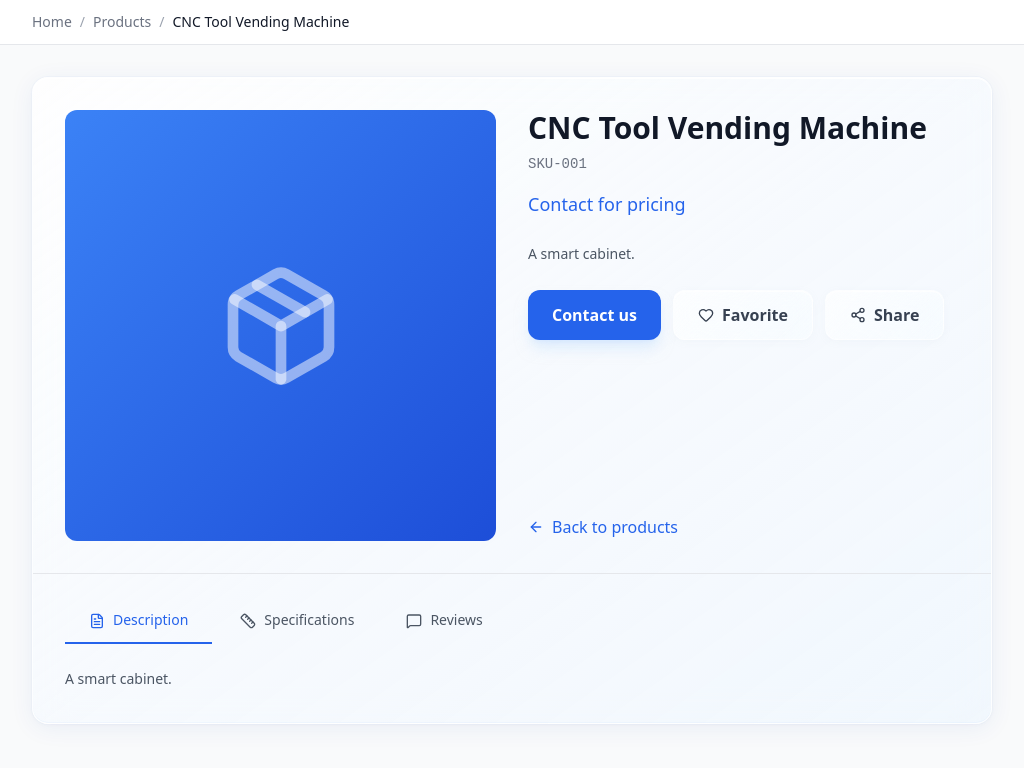
P2 ProductDetailClient — specs render as a table › array shape [{param,value}] -> <table> with param/value cells
// Open the Specifications tab.
Click the button "Specifications".
click(297, 621)  # box [216,598,378,644]
(page scrolled)
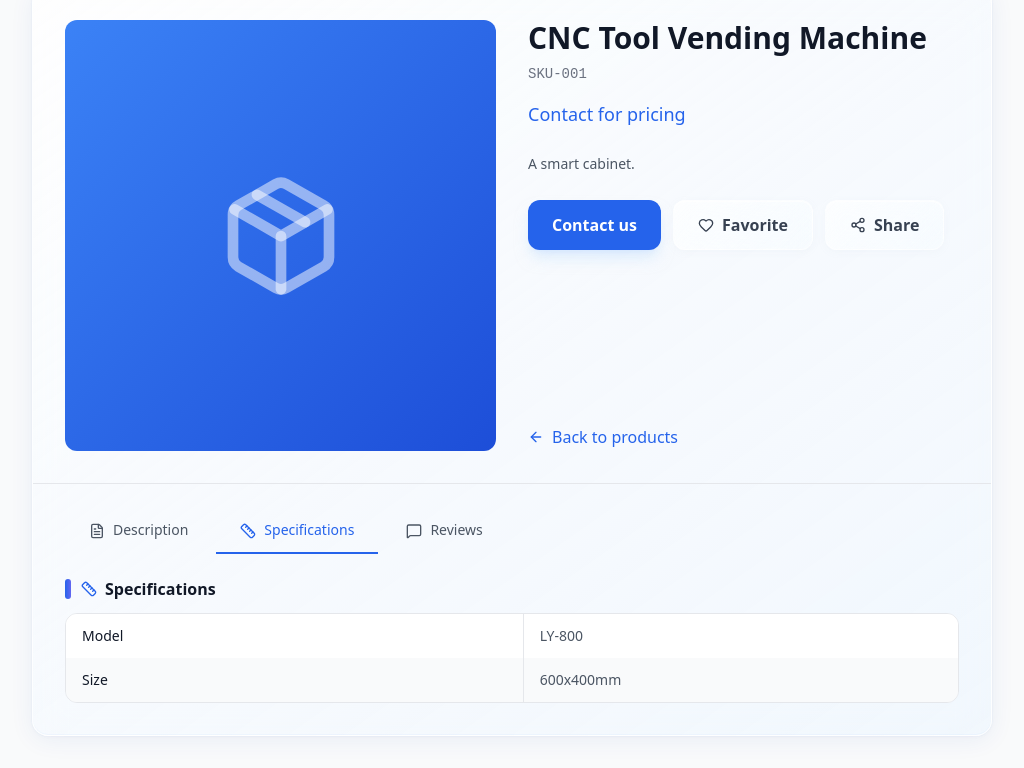
Result: the text "Model" is shown at [82,626,123,645]
Result: the text "LY-800" is shown at [523,614,958,658]
Result: the text "600x400mm" is shown at [523,658,958,702]
